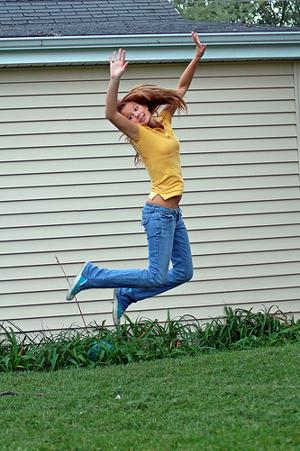person: (65, 32, 205, 328)
